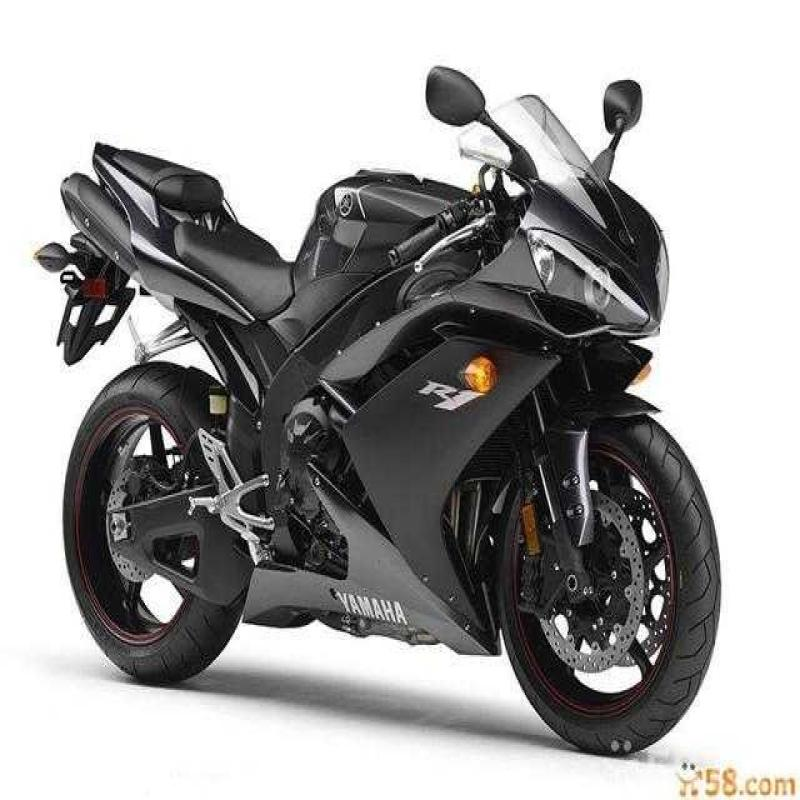bike: (32, 19, 786, 763)
